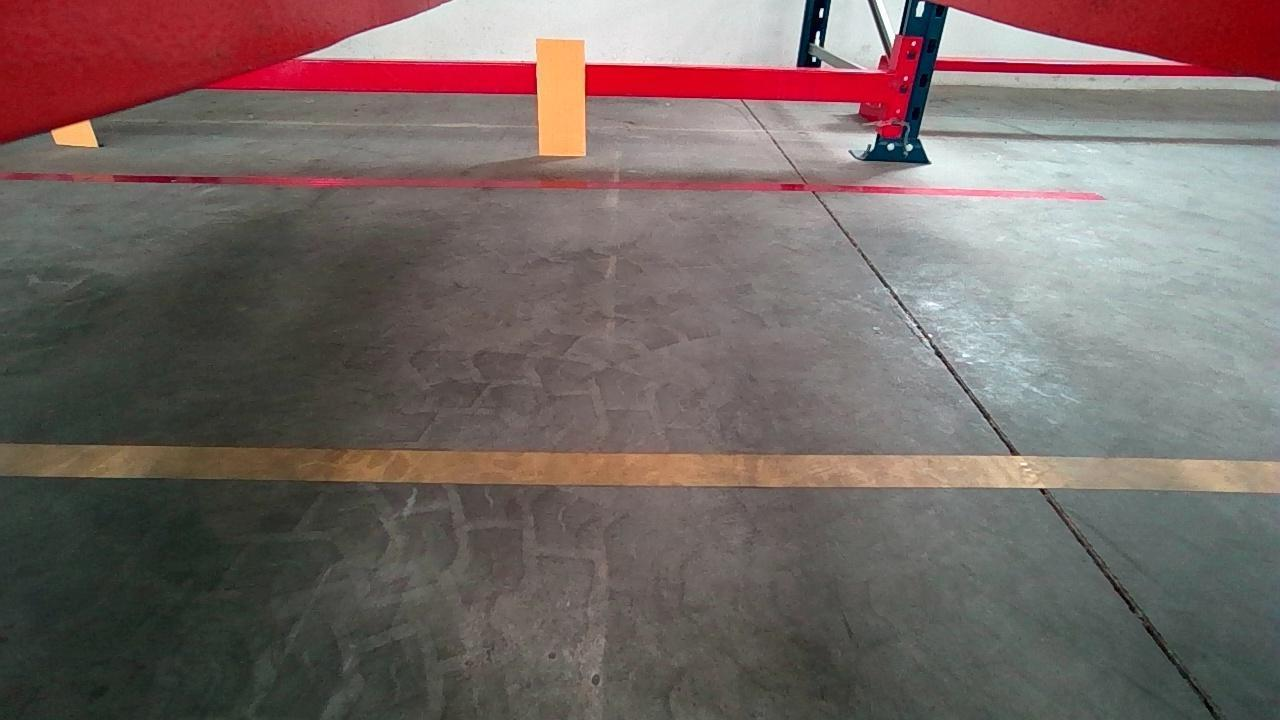h_rack: (207, 57, 911, 98)
orange_strip: (533, 40, 585, 158)
red_line: (0, 167, 1105, 200)
